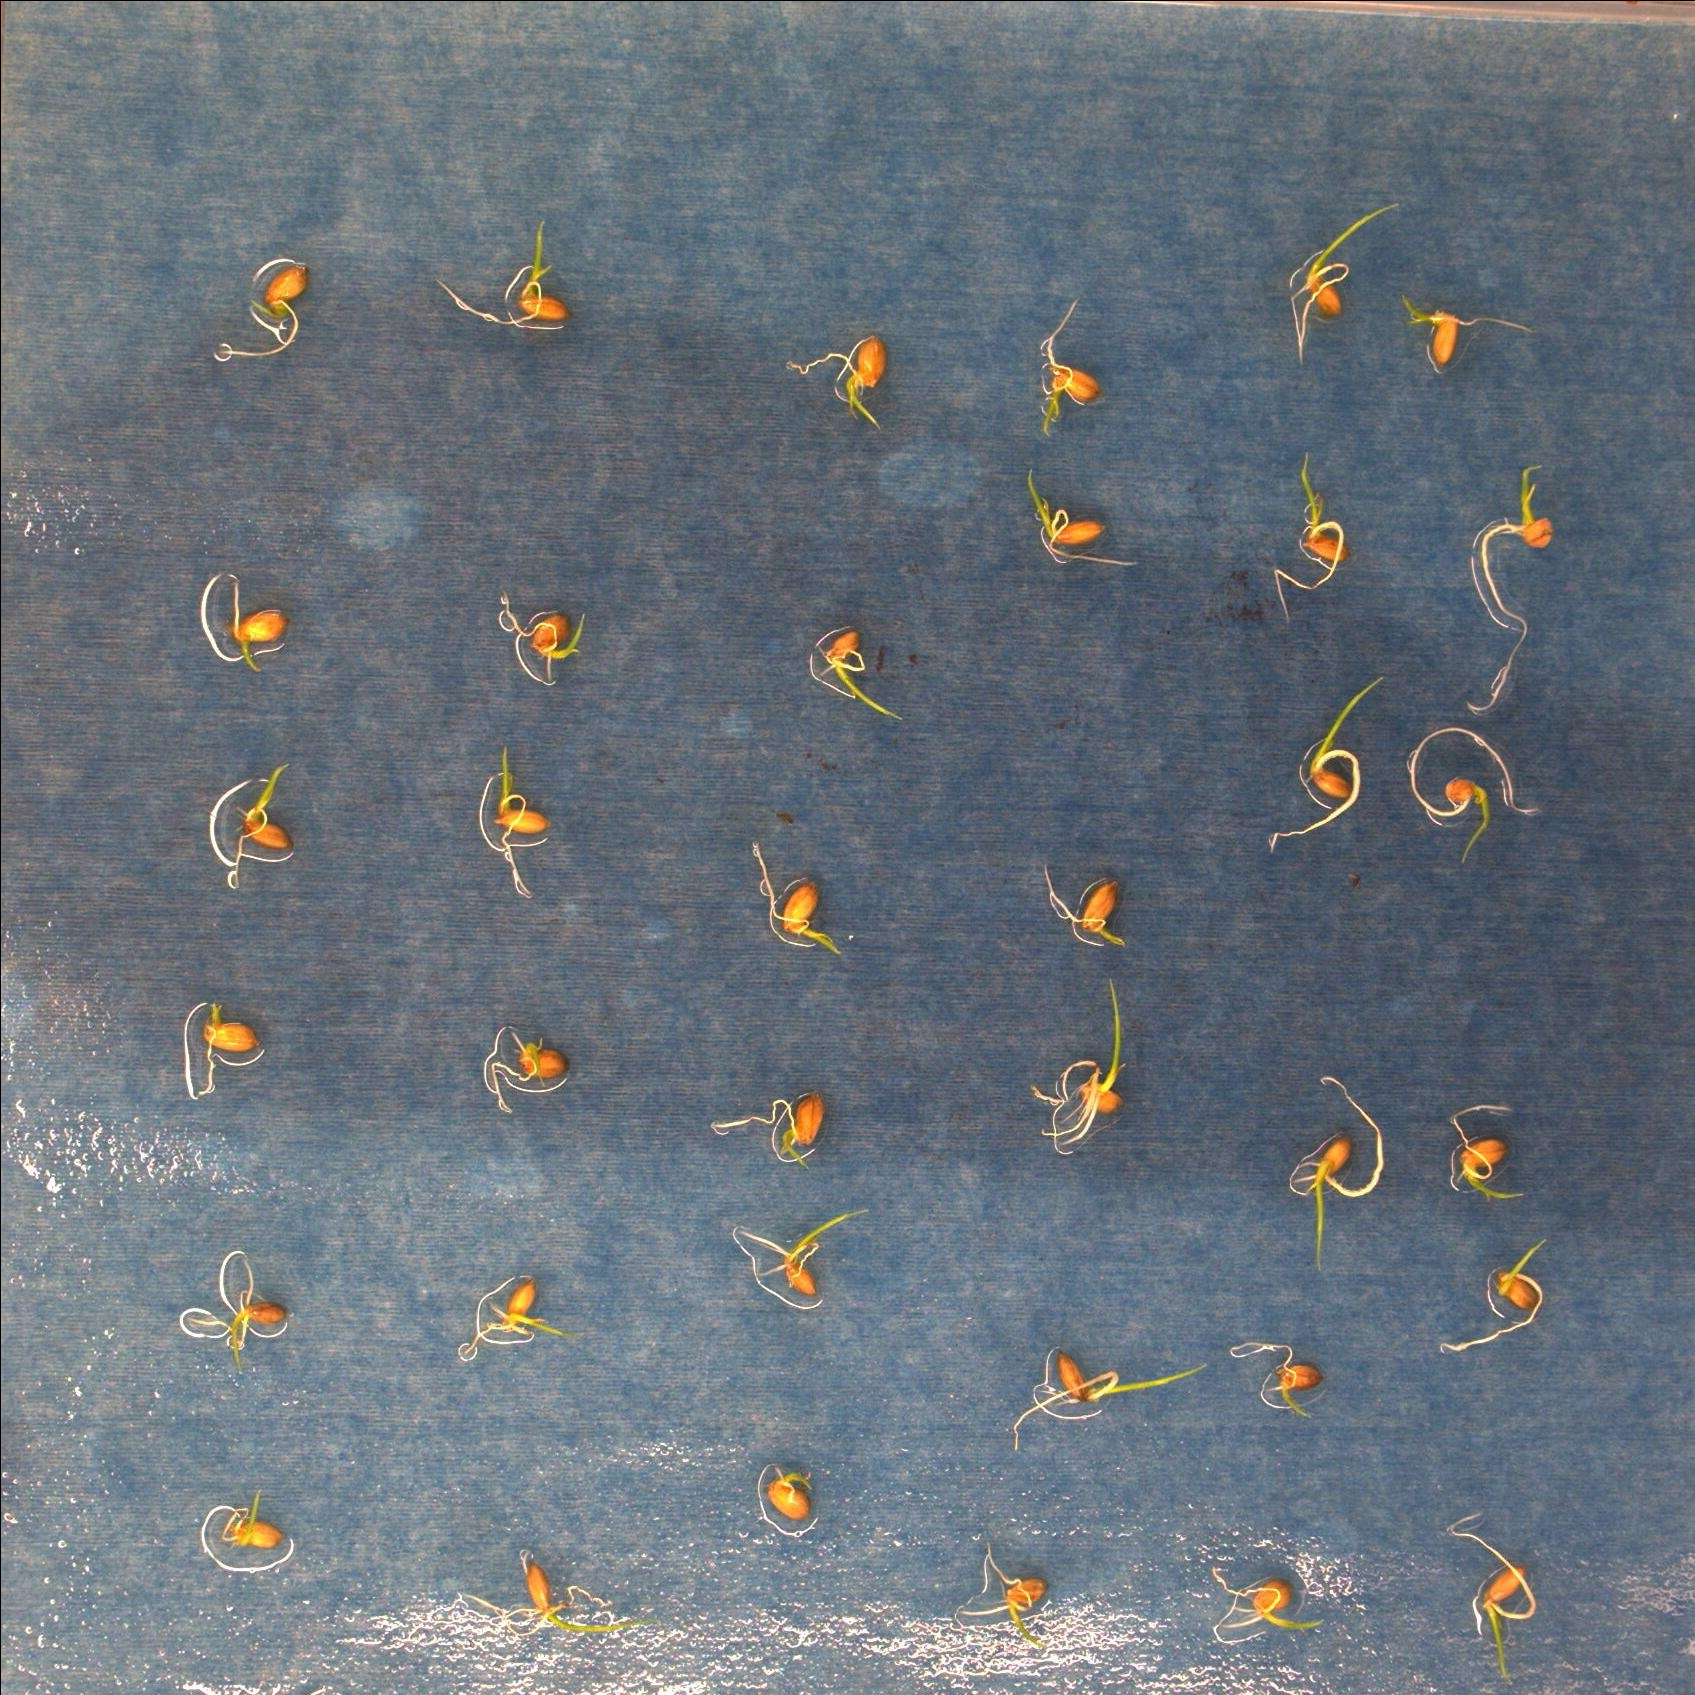sprout: (1462, 458, 1555, 722), (1263, 671, 1389, 851), (1287, 1066, 1389, 1270), (1003, 1349, 1215, 1447), (1285, 199, 1405, 366), (1405, 723, 1540, 863), (1442, 1509, 1544, 1687), (1032, 973, 1127, 1158), (432, 216, 577, 332), (175, 1250, 292, 1374), (1270, 447, 1350, 626), (1440, 1229, 1552, 1357), (478, 1554, 646, 1636), (1023, 463, 1142, 577), (737, 1201, 879, 1296), (744, 834, 849, 959), (449, 1270, 573, 1361), (211, 256, 312, 366), (1200, 1565, 1329, 1650), (785, 329, 889, 430), (225, 761, 303, 893), (1034, 293, 1102, 441), (492, 587, 588, 691), (492, 740, 553, 900), (1444, 1096, 1532, 1203), (1399, 298, 1537, 366), (816, 621, 906, 725), (709, 1087, 827, 1166), (1034, 860, 1132, 955), (958, 1544, 1052, 1641), (480, 1029, 571, 1116), (1226, 1340, 1330, 1414), (225, 563, 290, 672), (200, 998, 262, 1097), (217, 1482, 282, 1554), (765, 1464, 813, 1529)
